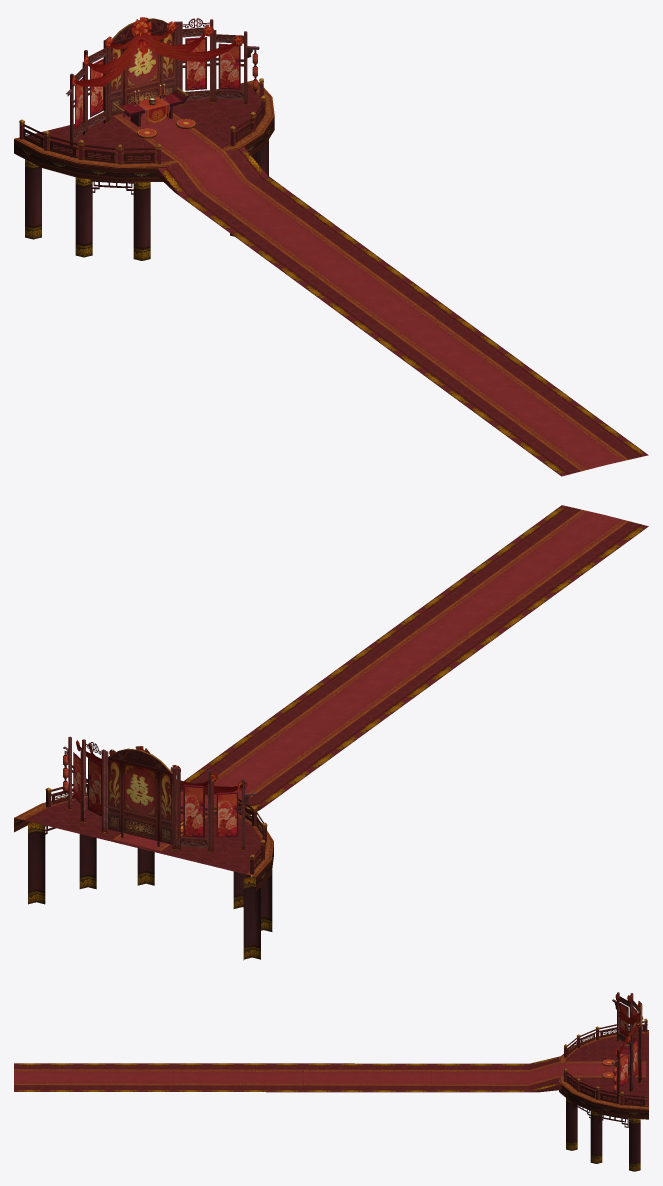
Rendered from fb_baitang_zhutai.FBX.
3 renders of one model, top to bottom at view 1: azimuth 30°, elevation 25°; view 2: azimuth 150°, elevation 25°; view 3: azimuth 270°, elevation 25°, orthographic. The views are drawn at different scales.
Visible parts, largest first — view 1: fb_baitang_zhutai; view 2: fb_baitang_zhutai; view 3: fb_baitang_zhutai.
Boxes of the visible parts, bbox=[...] form: fb_baitang_zhutai: bbox=[14, 17, 648, 476]; fb_baitang_zhutai: bbox=[14, 505, 648, 960]; fb_baitang_zhutai: bbox=[14, 992, 648, 1171].
Bounding box in the file's own units: 1520 × 1142 × 5108.
